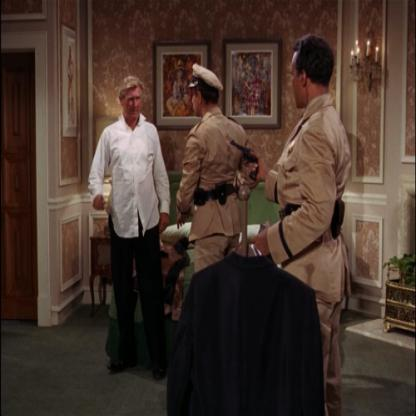Gun: (226, 136, 259, 183)
